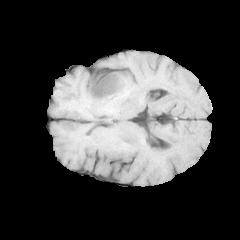glioma: (88, 72, 125, 101)
